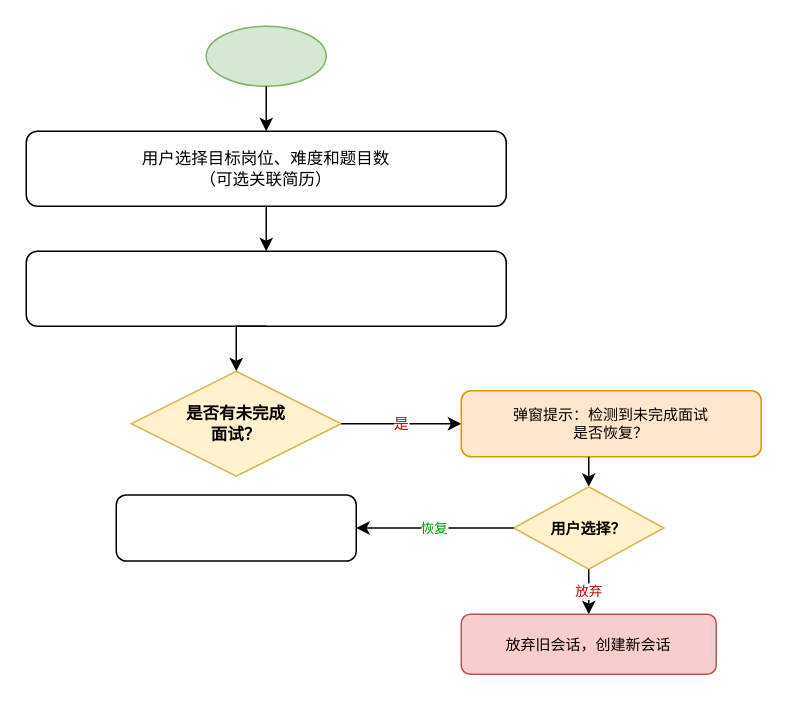
This 788x701 diagram has some shape labels left out. Each missing label, with the centre of its shape:
"创建 InterviewSession（status=pending） 初始化 analysis_data 空字典" belongs at [265,288].
"加载未完成会话 恢复答题进度" belongs at [235,527].
"开始" belongs at [265,55].
